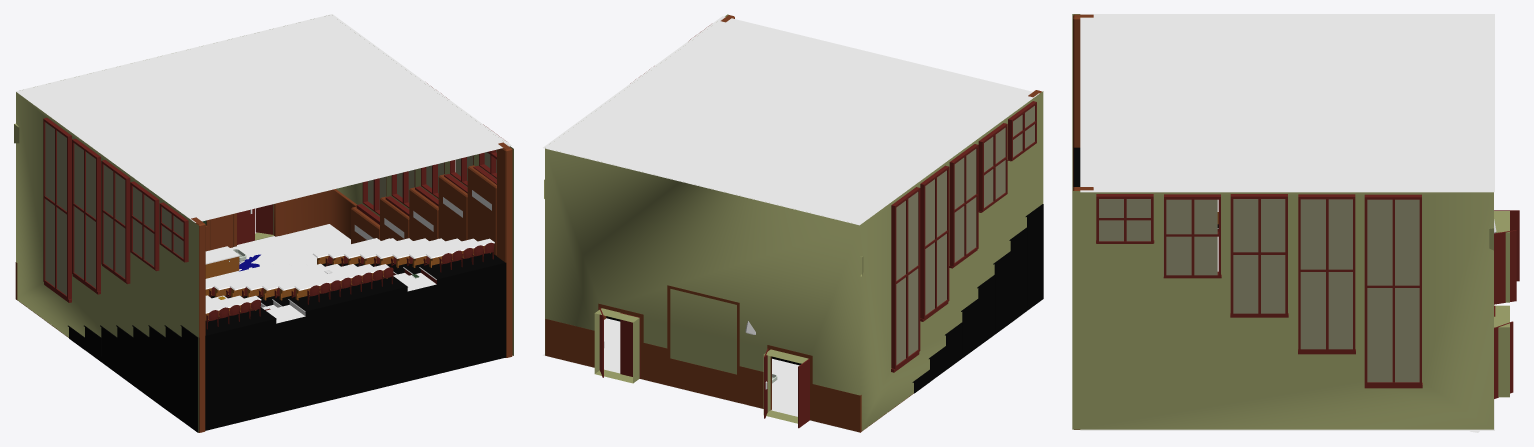
File: class.fbx
The picture shows the model from 3 angles, left to right: view 1: azimuth 30°, elevation 25°; view 2: azimuth 150°, elevation 25°; view 3: azimuth 270°, elevation 25°; orthographic projection. The views are drawn at different scales.
Parts seen in each view (by area): view 1: walls; view 2: walls; view 3: walls.
Boxes of the visible parts, bbox=[...] form: walls: bbox=[14, 14, 513, 432]; walls: bbox=[542, 14, 1043, 432]; walls: bbox=[1072, 14, 1519, 432].
Bounding box in the file's own units: 323 × 197 × 334.
